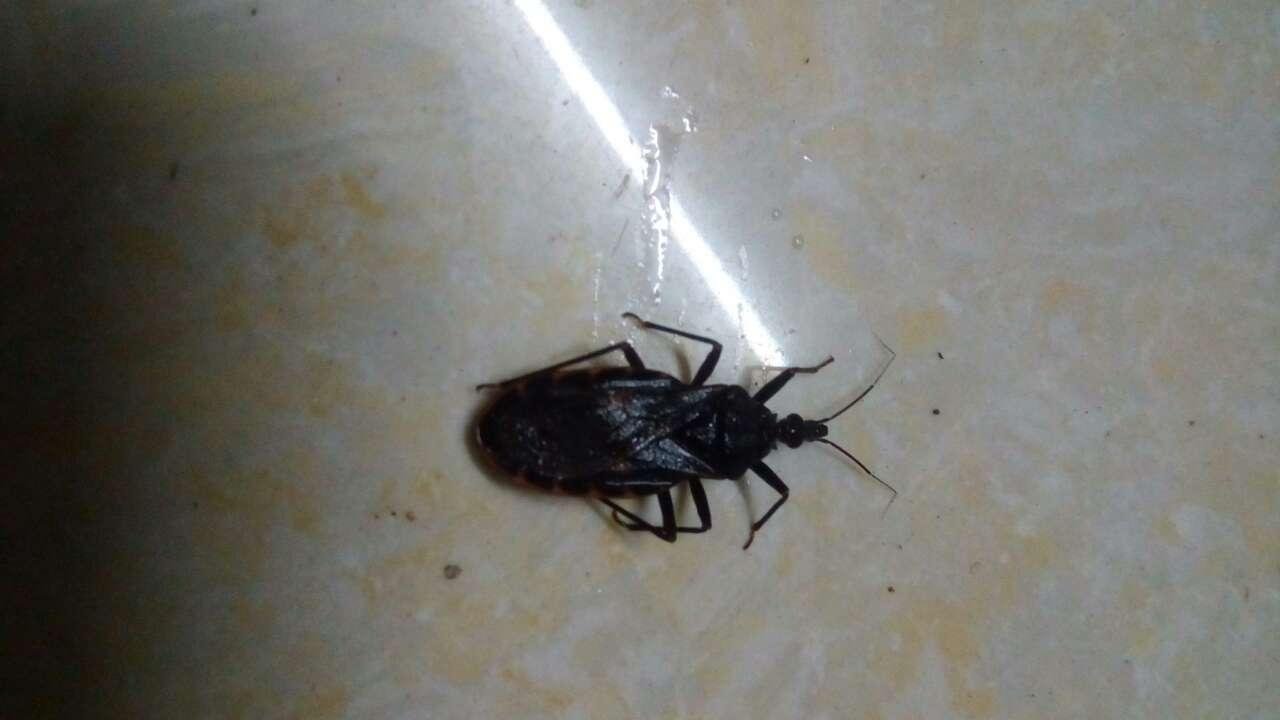chunchong: (465, 326, 897, 554)
